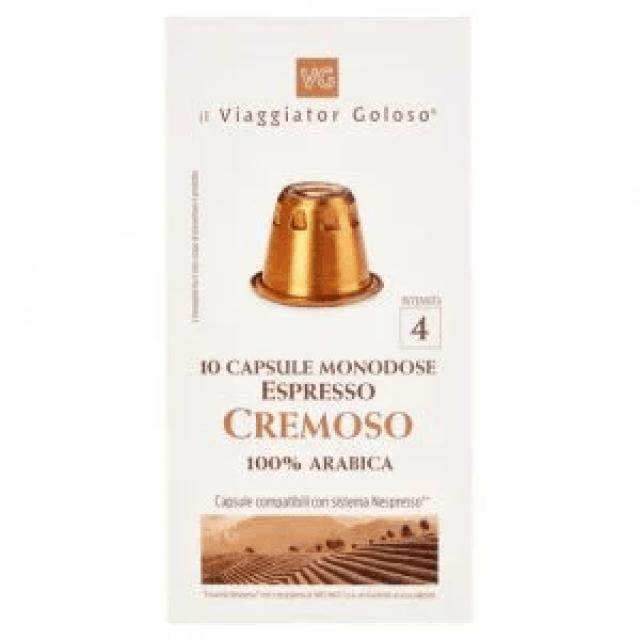coffee: (163, 13, 474, 626)
